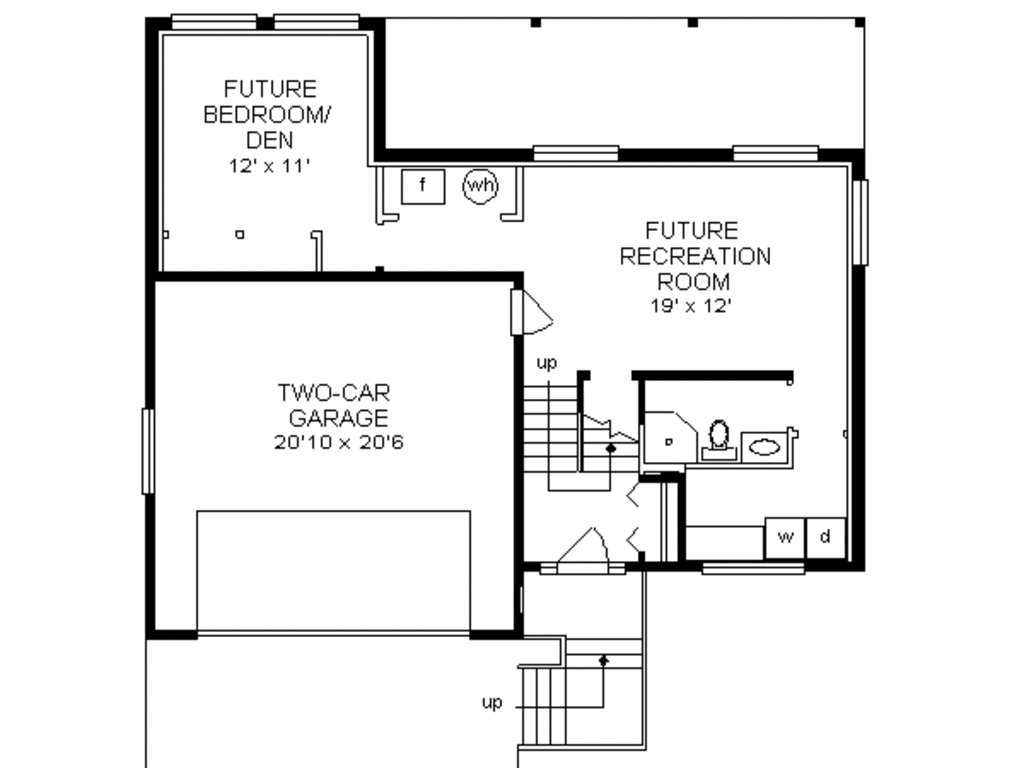door: (545, 519, 633, 580), (505, 279, 563, 340)
large_sink: (698, 418, 736, 464)
small_sink: (732, 429, 802, 464)
stairs: (509, 622, 652, 748), (526, 353, 642, 499)
window: (526, 134, 631, 168), (721, 135, 821, 168), (160, 10, 265, 41), (846, 176, 874, 275), (274, 11, 365, 37), (136, 403, 159, 499), (702, 557, 804, 578)
